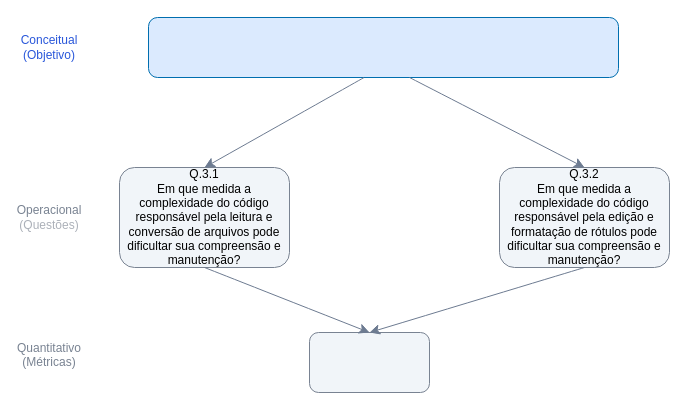
This 687x410 diagram has some shape labels left out. Here are the shapes that lost their labels. From the top down, the centre of each, then its label:
[383,47]: G3 | Manutenibilidade Darw.io 32.2.0 Foco: Analisabilidade
[369,362]: M.3.1 Complexidade cognitiva média por função
